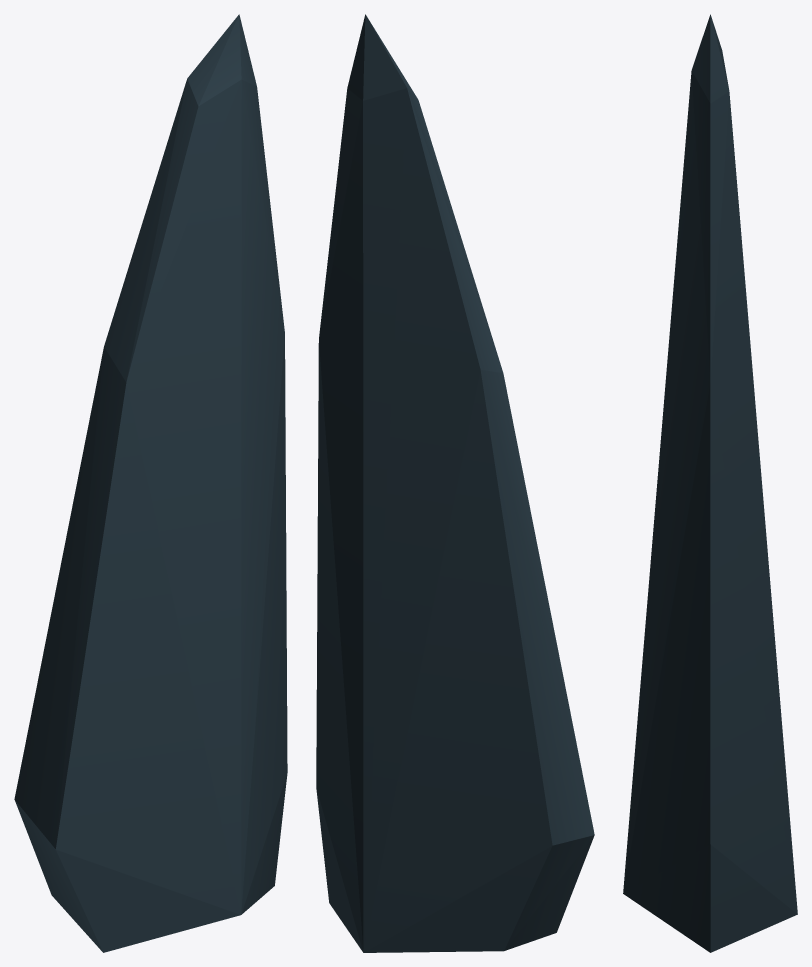
File: blade-spire.glb
The picture shows the model from 3 angles, left to right: view 1: azimuth 30°, elevation 25°; view 2: azimuth 150°, elevation 25°; view 3: azimuth 270°, elevation 25°; orthographic projection. The views are drawn at different scales.
Visible parts, largest first — view 1: blade-spire; view 2: blade-spire; view 3: blade-spire.
Part boxes in pixels (<box>): blade-spire: <box>14,14,287,952</box>; blade-spire: <box>316,14,594,952</box>; blade-spire: <box>623,14,797,952</box>.
Size of the model in its own units: 1.2 by 4 by 0.6882.
